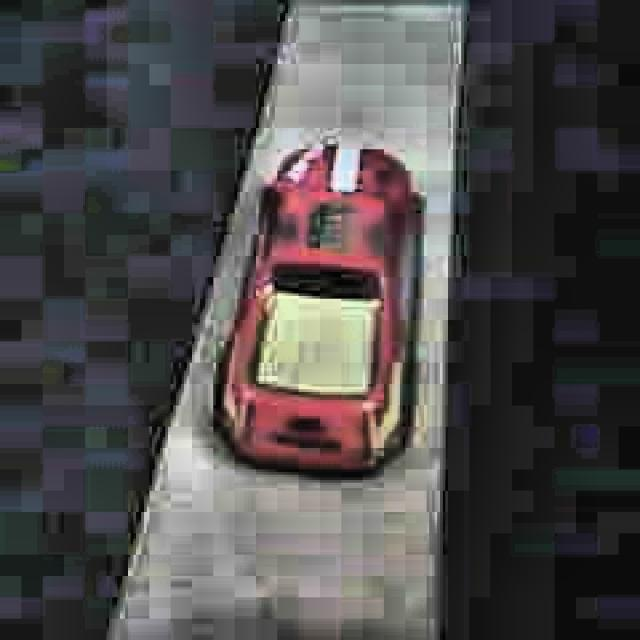car: (212, 139, 428, 486)
